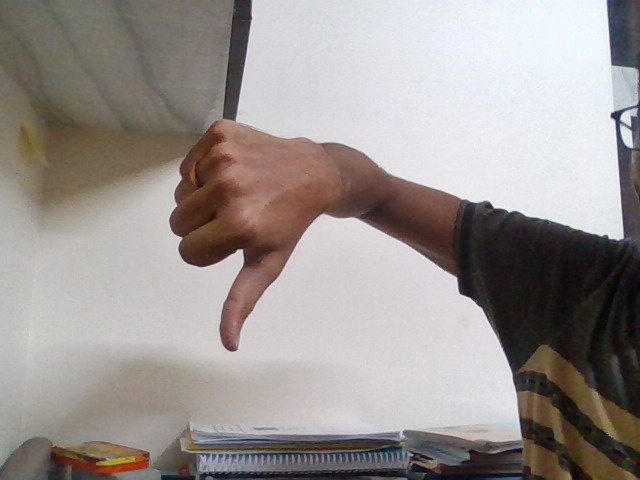No: (162, 90, 339, 362)
